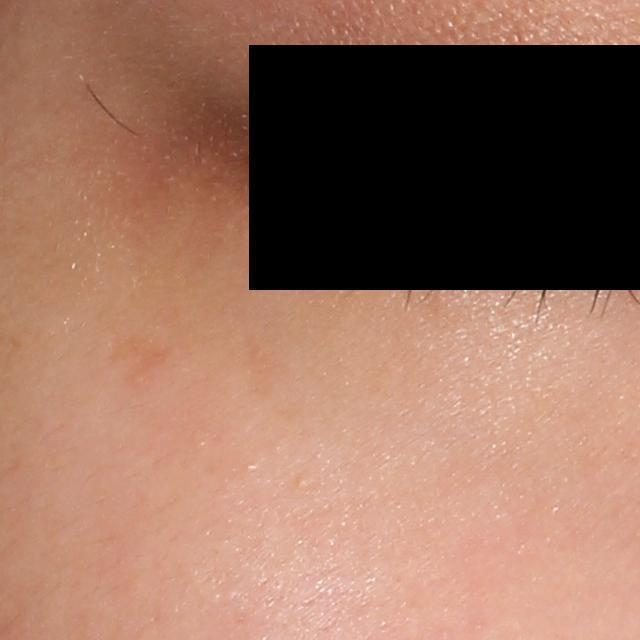melasma: (105, 328, 175, 397)
